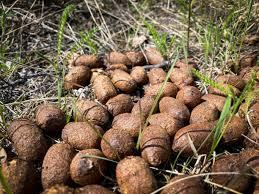Elk: (40, 67, 246, 164)
